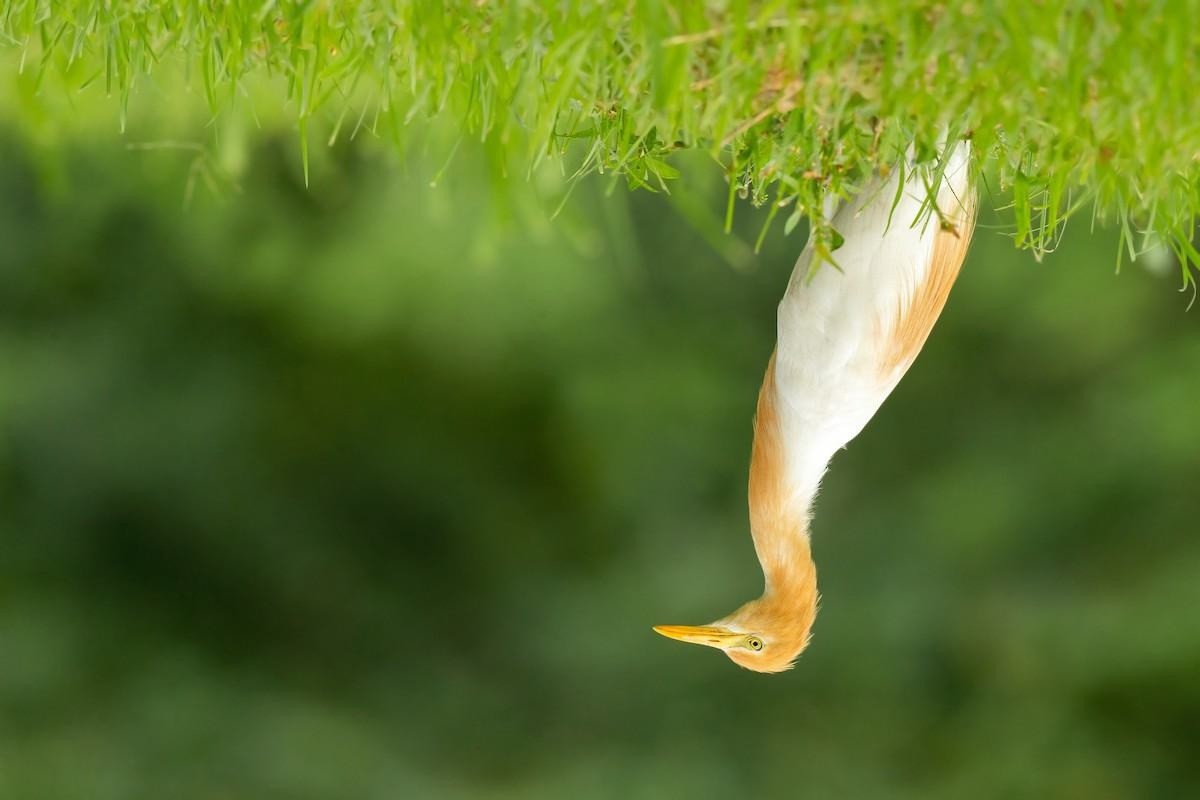egret: (630, 98, 1046, 714)
